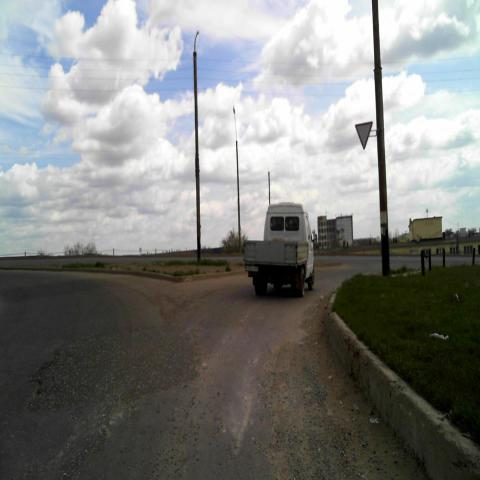2_4: (354, 120, 374, 152)
